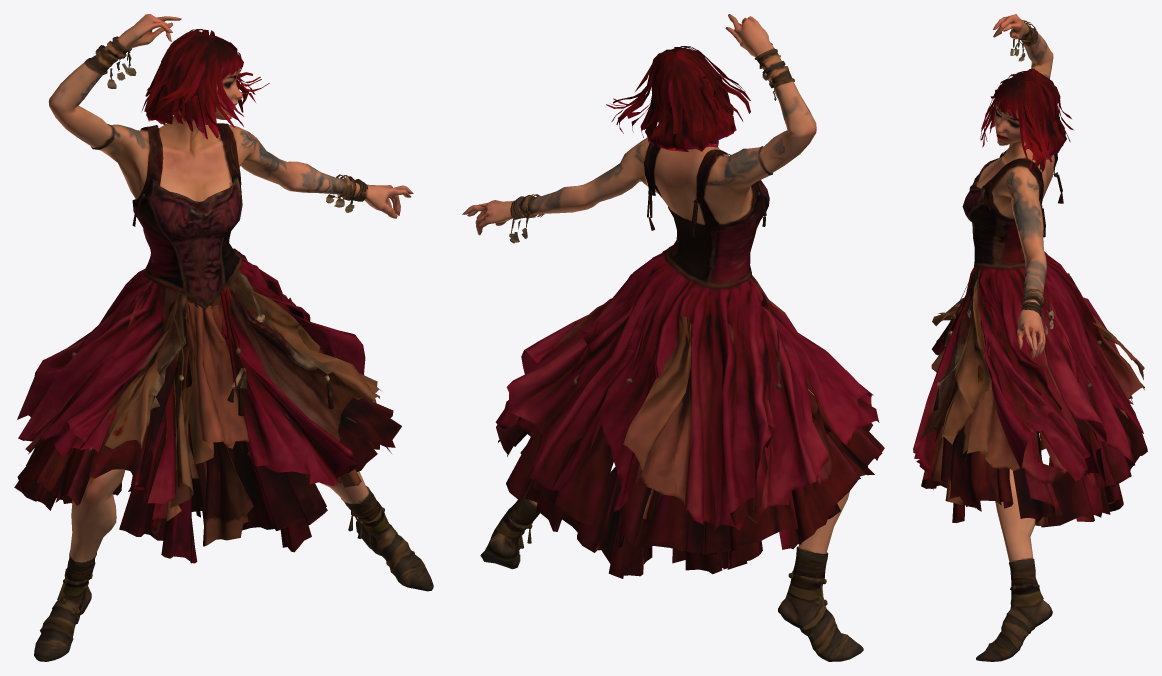
File: dalith.glb
3 views of the same model, side by side, from view 1: azimuth 30°, elevation 25°; view 2: azimuth 150°, elevation 25°; view 3: azimuth 270°, elevation 25° (orthographic). The views are drawn at different scales.
Parts seen in each view (by area): view 1: geometry_0; view 2: geometry_0; view 3: geometry_0.
Boxes of the visible parts, x1,y1,x2,y2 form: geometry_0: (14, 14, 433, 661); geometry_0: (462, 14, 884, 661); geometry_0: (913, 14, 1147, 661).
Bounding box in the file's own units: 0.6235 × 0.9526 × 0.3774.
Materials: 1 (1 with a texture image).
